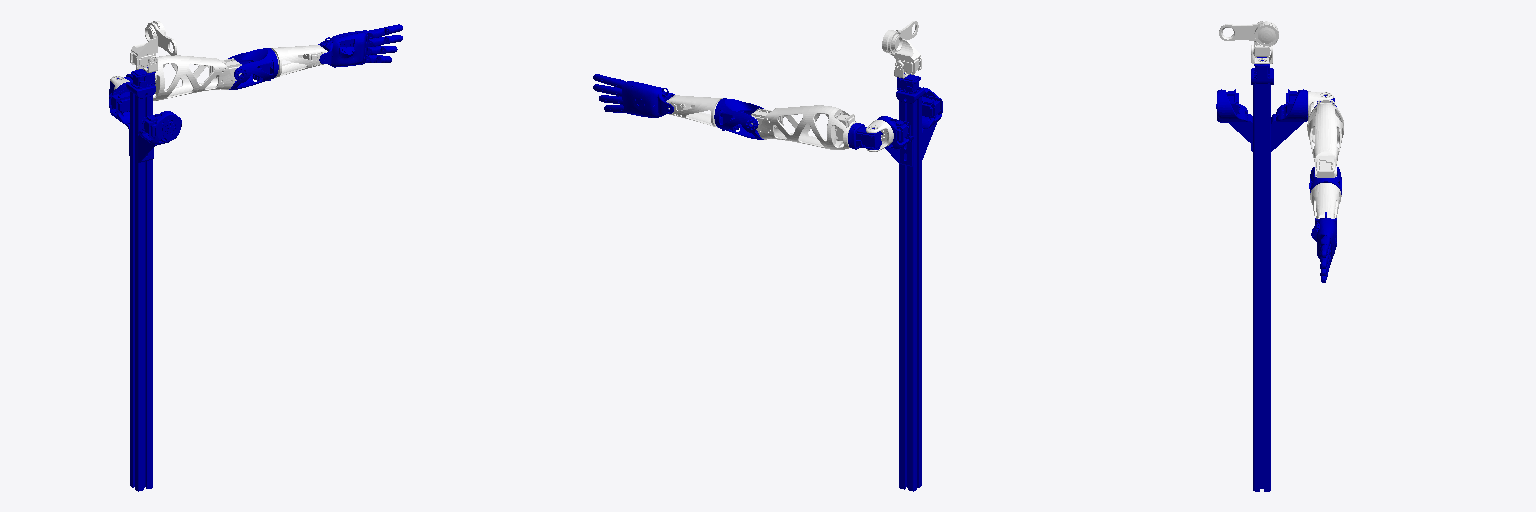
The robot description file, URDF, robot "Leachy_w_hand":
<?xml version="1.0"?>
<robot name="Leachy_w_hand">

  <material name="blue">
    <color rgba="0 0 0.8 1"/>
  </material>

  <material name="white">
    <color rgba="1 1 1 1"/>
  </material>

  <material name="red">
    <color rgba="0.8 0 0 1"/>
  </material>
<link name="world" />
<link name="base">
    <visual>
      <geometry>
        <mesh filename="package://reachy/meshes/trunk-visual.stl"></mesh>
      </geometry>
      <material name="blue"/>
    </visual>
    <inertial>
      <inertia ixx= "1.043e-4" ixy= "6.147e-6" ixz= "-1.971e-6" iyy= "1.364e-4" iyz= "1.466e-5" izz= "1.403e-4" ></inertia>
      <mass value="0.221"></mass>
    </inertial>
    <collision>
      <origin xyz="0 0 0" rpy="0 0 0"></origin>
      <geometry>
        <mesh filename="package://reachy/meshes/trunk-respondable.stl"></mesh>
      </geometry>
    </collision>
  </link>
  <joint name="world_to_base_link" type="fixed">
    <parent link="world"/>
    <child link="base"/>
  </joint>

  <link name="l_shoulder">
    <visual>
      <origin xyz="0 0 0" rpy="0 0 0"></origin>
      <geometry>
        <mesh filename="package://reachy/meshes/shoulder-left-visual.stl"></mesh>
      </geometry>
      <material name="white"/>
    </visual>
    <inertial>
      <inertia ixx= "1.299e-5" ixy= "5.557e-10" ixz= "-2.973e-10" iyy= "2.323e-5" iyz= "-8.199e-8" izz= "2.227e-5" ></inertia>
      <mass value="0.036"></mass>
    </inertial>
    <collision>
      <origin xyz="0 0 0" rpy="0 0 0"></origin>
      <geometry>
        <mesh filename="package://reachy/meshes/shoulder-left-respondable.stl"></mesh>
      </geometry>
    </collision>

  </link>

  <link name="l_shoulder_to_arm">
    <visual>
      <geometry>
        <mesh filename="package://reachy/meshes/shoulder-x-visual.stl"></mesh>
      </geometry>
      <origin rpy="0 0 0" xyz="0 0 0"/>
      <material name="blue"/>
    </visual>
    <inertial>
      <inertia ixx= "6.811e-5" ixy= "-2.299e-10" ixz= "-4.502e-7" iyy= "7.593e-5" iyz= "-1.674e-9" izz= "4.248e-5" ></inertia>
      <mass value="0.155"></mass>
    </inertial>
    <collision>
      <origin xyz="0 0 0" rpy="0 0 0"></origin>
      <geometry>
        <mesh filename="package://reachy/meshes/shoulder-x-respondable.stl"></mesh>
      </geometry>
    </collision>
  </link>

  <link name="l_upper_arm">
    <visual>
      <geometry>
        <mesh filename="package://reachy/meshes/upper-arm-visual.stl"></mesh>
      </geometry>
      <origin rpy="0 0 0" xyz="0 0 0"/>
      <material name="white"/>
    </visual>
    <inertial>
      <inertia ixx= "4.171e-3" ixy= "1.333e-7" ixz= "-2.900e-4" iyy= "4.276e-3" iyz= "1.465e-6" izz= "3.177e-4" ></inertia>
      <mass value="0.430"></mass>
    </inertial>
    <collision>
      <origin xyz="0 0 0" rpy="0 0 0"></origin>
      <geometry>
        <mesh filename="package://reachy/meshes/upper-arm-respondable.stl"></mesh>
      </geometry>
    </collision>
  </link>

  <link name="l_forearm">
    <visual>
      <origin xyz="0 0 0" rpy="0 0 0"></origin>
      <geometry>
        <mesh filename="package://reachy/meshes/forearm-visual.stl"></mesh>
      </geometry>
      <origin rpy="0 0 0" xyz="0 0 0"/>
      <material name="blue"/>
    </visual>
    <inertial>
      <inertia ixx= "1.724e-4" ixy= "-1.733e-8" ixz= "1.854e-5" iyy= "1.815e-4" iyz= "-4.191e-8" izz= "9.299e-5" ></inertia>
      <mass value="0.129"></mass>
    </inertial>
    <collision>
      <origin xyz="0 0 0" rpy="0 0 0"></origin>
      <geometry>
        <mesh filename="package://reachy/meshes/forearm-respondable.stl"></mesh>
      </geometry>
    </collision>
  </link>

  <link name="gripper"> <!--l_wrist-->
    <visual>
      <origin xyz="0 0 0" rpy="0 0 0"></origin>
      <geometry>
        <mesh filename="package://reachy/meshes/wrist-visual.stl"></mesh>
      </geometry>
      <origin rpy="0 0 0" xyz="0 0 0"/>
      <material name="white"/>
    </visual>
    <inertial>
      <inertia ixx= "2.215e-4" ixy= "-2.163e-8" ixz= "-4.702e-6" iyy= "2.306e-4" iyz= "-6.577e-7" izz= "5.075e-5" ></inertia>
      <mass value="0.115"></mass>
    </inertial>
    <collision>
      <origin xyz="0 0 0" rpy="0 0 0"></origin>
      <geometry>
        <mesh filename="package://reachy/meshes/wrist-respondable.stl"></mesh>
      </geometry>
    </collision>
  </link>

  <link name="end_effector"> <!--l_open_bionics_hand-->
    <visual>
      <geometry>
        <mesh filename="package://reachy/meshes/open_bionics_hand_left-visual.stl"></mesh>
      </geometry>
      <origin rpy="0 0 0" xyz="0 0 0"/>
      <material name="blue"/>
    </visual>
    <inertial>
      <inertia ixx= "3.861e-6" ixy= "-2.805e-9" ixz= "-8.067e-8" iyy= "3.694e-6" iyz= "-7.689e-8" izz= "4.987e-6" ></inertia>
      <mass value="0.009"></mass>
    </inertial>
    <collision>
      <origin xyz="0 0 0" rpy="0 0 0"></origin>
      <geometry>
        <mesh filename="package://reachy/meshes/open_bionics_hand_left-respondable.stl"></mesh>
      </geometry>
    </collision>
  </link>


  <joint name="l_shoulder_pitch" type="revolute">
    <parent link="base"/>
    <child link="l_shoulder"/>
    <origin rpy="0 -1.5 0" xyz="0 0.14 0"/>
    <axis xyz="0 1 0"/>
    <limit lower="-1.5708" upper="3.14159"/>
  </joint>

  <joint name="l_shoulder_roll" type="revolute">
    <parent link="l_shoulder"/>
    <child link="l_shoulder_to_arm"/>
    <origin rpy="0 0 0" xyz="0 0 0"/>
    <axis xyz="1 0 0"/>
    <limit lower="-0.174533" upper="3.14159"/>
  </joint>

  <joint name="l_arm_yaw" type="revolute">
    <parent link="l_shoulder_to_arm"/>
    <child link="l_upper_arm"/>
    <origin rpy="0 0 0" xyz="0 0 0"/>
    <axis xyz="0 0 1"/>
    <limit lower="-1.5708" upper="1.5708"/>
  </joint>

  <joint name="l_elbow_pitch" type="revolute">
    <parent link="l_upper_arm"/>
    <child link="l_forearm"/>
    <origin rpy="0 0 0" xyz="0 0 -0.30745"/>
    <axis xyz="0 1 0"/>
    <limit lower="-2.18166" upper="0"/>
  </joint>

  <joint name="l_forearm_yaw" type="revolute">
    <parent link="l_forearm"/>
    <child link="gripper"/>
    <origin rpy="0 0 0" xyz="0 0 0"/>
    <axis xyz="0 0 1"/>
    <limit lower="-2.61799" upper="2.61799"/>
  </joint>

  <joint name="l_wrist_pitch" type="revolute">
    <parent link="gripper"/>
    <child link="end_effector"/>
    <origin rpy="0 0 0" xyz="0 0 -0.22415"/>
    <axis xyz="0 1 0"/>
    <limit lower="-1.22173" upper="1.22173"/>
  </joint>


  <link name="head_U">
    <visual>
      <origin xyz="0 0 0" rpy="0 0 0"></origin>
      <geometry>
        <mesh filename="package://reachy/meshes/head_u-visual.stl"></mesh>
      </geometry>
      <material name="white"/>
    </visual>
    <inertial>
      <inertia ixx= "1.299e-5" ixy= "5.557e-10" ixz= "-2.973e-10" iyy= "2.323e-5" iyz= "-8.199e-8" izz= "2.227e-5" ></inertia>
      <mass value="0.036"></mass>
    </inertial>
  </link>

  <link name="head_eyes">
    <visual>
      <origin xyz="0 0 0" rpy="0 0 0"></origin>
      <geometry>
        <mesh filename="package://reachy/meshes/head-eyes-visual.stl"></mesh>
      </geometry>
      <material name="white"/>
    </visual>
    <inertial>
      <inertia ixx= "1.299e-5" ixy= "5.557e-10" ixz= "-2.973e-10" iyy= "2.323e-5" iyz= "-8.199e-8" izz= "2.227e-5" ></inertia>
      <mass value="0.036"></mass>
    </inertial>
    <collision>
      <origin xyz="0 0 0" rpy="0 0 0"></origin>
      <geometry>
        <mesh filename="package://reachy/meshes/head-eyes-respondable.stl"></mesh>
      </geometry>
    </collision>
  </link>

    <joint name="head_yaw" type="revolute">
    <parent link="base"/>
    <child link="head_U"/>
    <origin rpy="0 0 0" xyz="0 0 0.13775"/>
    <axis xyz="0 0 1"/>
    <limit lower="-1.5708" upper="3.14159"/>
  </joint>

    <joint name="head_pitch" type="revolute">
    <parent link="head_U"/>
    <child link="head_eyes"/>
    <origin rpy="0 0 0" xyz="0 0 0"/>
    <axis xyz="0 1 0"/>
    <limit lower="-3.14159" upper="0.174533"/>
  </joint>


</robot>

--- What the picture shows (computed from the rendered views, not written in the file) ---
Views: 3 orthographic renders of the robot side by side, from view 1: azimuth 30°, elevation 25°; view 2: azimuth 150°, elevation 25°; view 3: azimuth 270°, elevation 25°.
Model Leachy_w_hand with 10 links and 9 joints (8 revolute, 1 fixed), rooted at world, posed all joints at 0.
Visible links, largest first — view 1: base, l_upper_arm, end_effector, l_forearm, head_eyes, gripper; view 2: base, l_upper_arm, end_effector, l_forearm, head_eyes, gripper, l_shoulder_to_arm; view 3: base, l_upper_arm, head_eyes, end_effector, gripper.
Boxes of the visible links, x1,y1,x2,y2 form: base: (109,67,181,491); l_upper_arm: (136,55,241,100); end_effector: (318,24,402,67); l_forearm: (228,48,278,89); head_eyes: (130,21,176,68); gripper: (271,45,327,77); base: (877,73,942,491); l_upper_arm: (751,105,856,149); end_effector: (593,74,674,117); l_forearm: (714,98,763,139); head_eyes: (882,21,921,74); gripper: (666,95,722,127); l_shoulder_to_arm: (848,123,881,149); base: (1216,57,1307,491); l_upper_arm: (1307,100,1343,177); head_eyes: (1219,21,1278,57); end_effector: (1311,212,1336,282); gripper: (1310,183,1341,218).
Size in the robot's own frame: 0.7965 by 0.2829 by 1.15 metres.
Meshes: 9 distinct files referenced, 9 mesh visuals loaded (9 binary STL).
